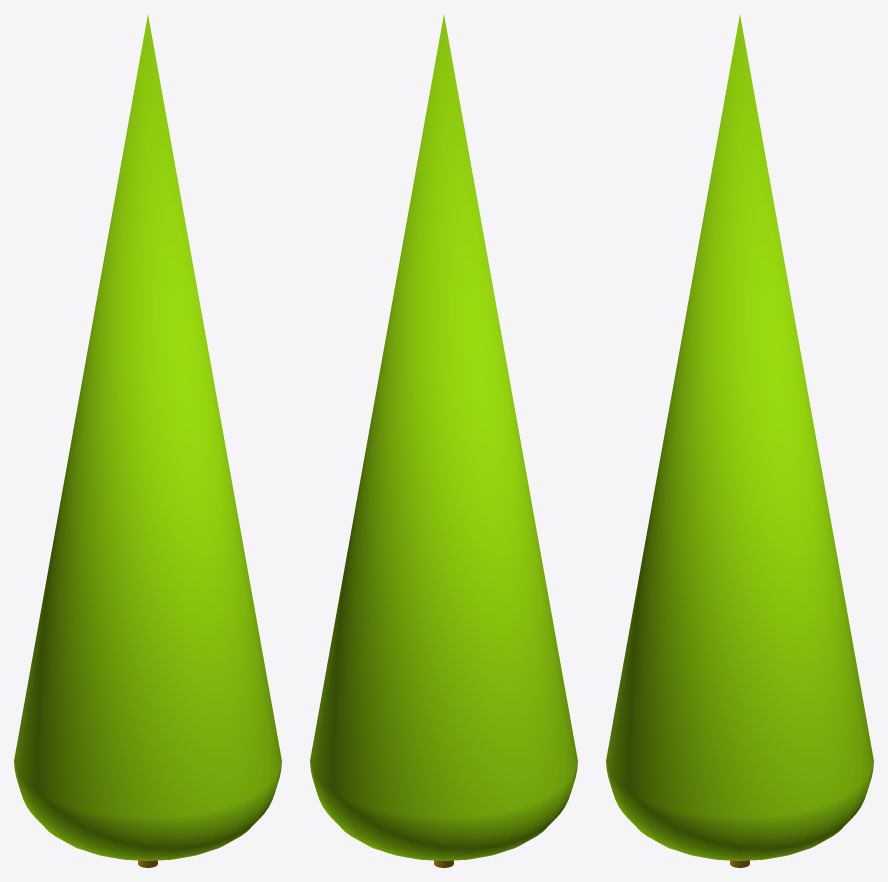
Rendered from HPK7m.glb.
3 renders of one model, left to right at view 1: azimuth 30°, elevation 25°; view 2: azimuth 150°, elevation 25°; view 3: azimuth 270°, elevation 25°, orthographic.
Parts seen in each view (by area): view 1: HPK7m; view 2: HPK7m; view 3: HPK7m.
Part boxes in pixels (x1,y1,x2,y2): HPK7m: [14, 15, 281, 867]; HPK7m: [310, 15, 577, 867]; HPK7m: [606, 15, 873, 867].
Size of the model in its own units: 2 by 7 by 2.
